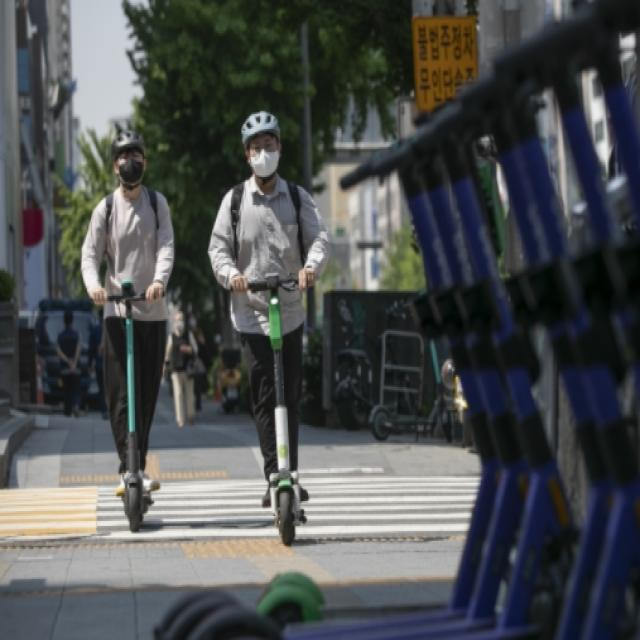helmet: (209, 105, 334, 551), (76, 124, 180, 536)
